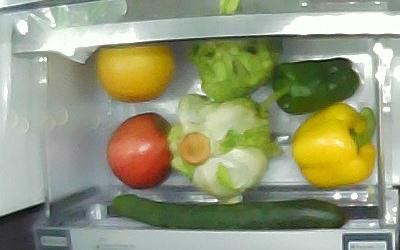apple: (107, 112, 172, 190)
broccoli: (187, 38, 282, 103)
cucumber: (109, 195, 348, 230)
grapefruit: (96, 43, 174, 103)
lettuce: (167, 94, 284, 204)
paprika: (292, 103, 376, 190), (259, 58, 360, 118)
